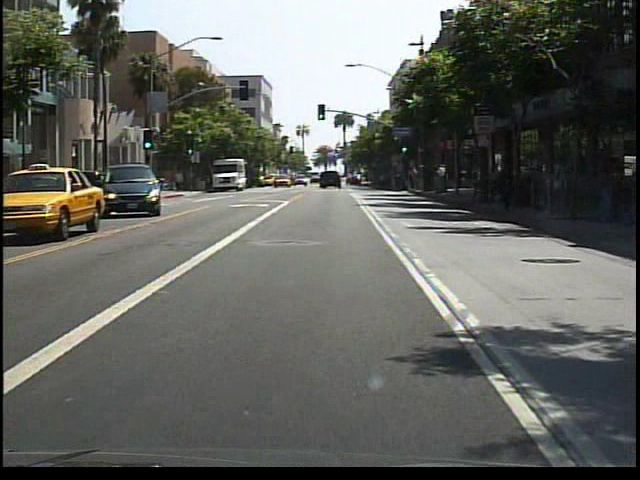person: (174, 166, 188, 192)
